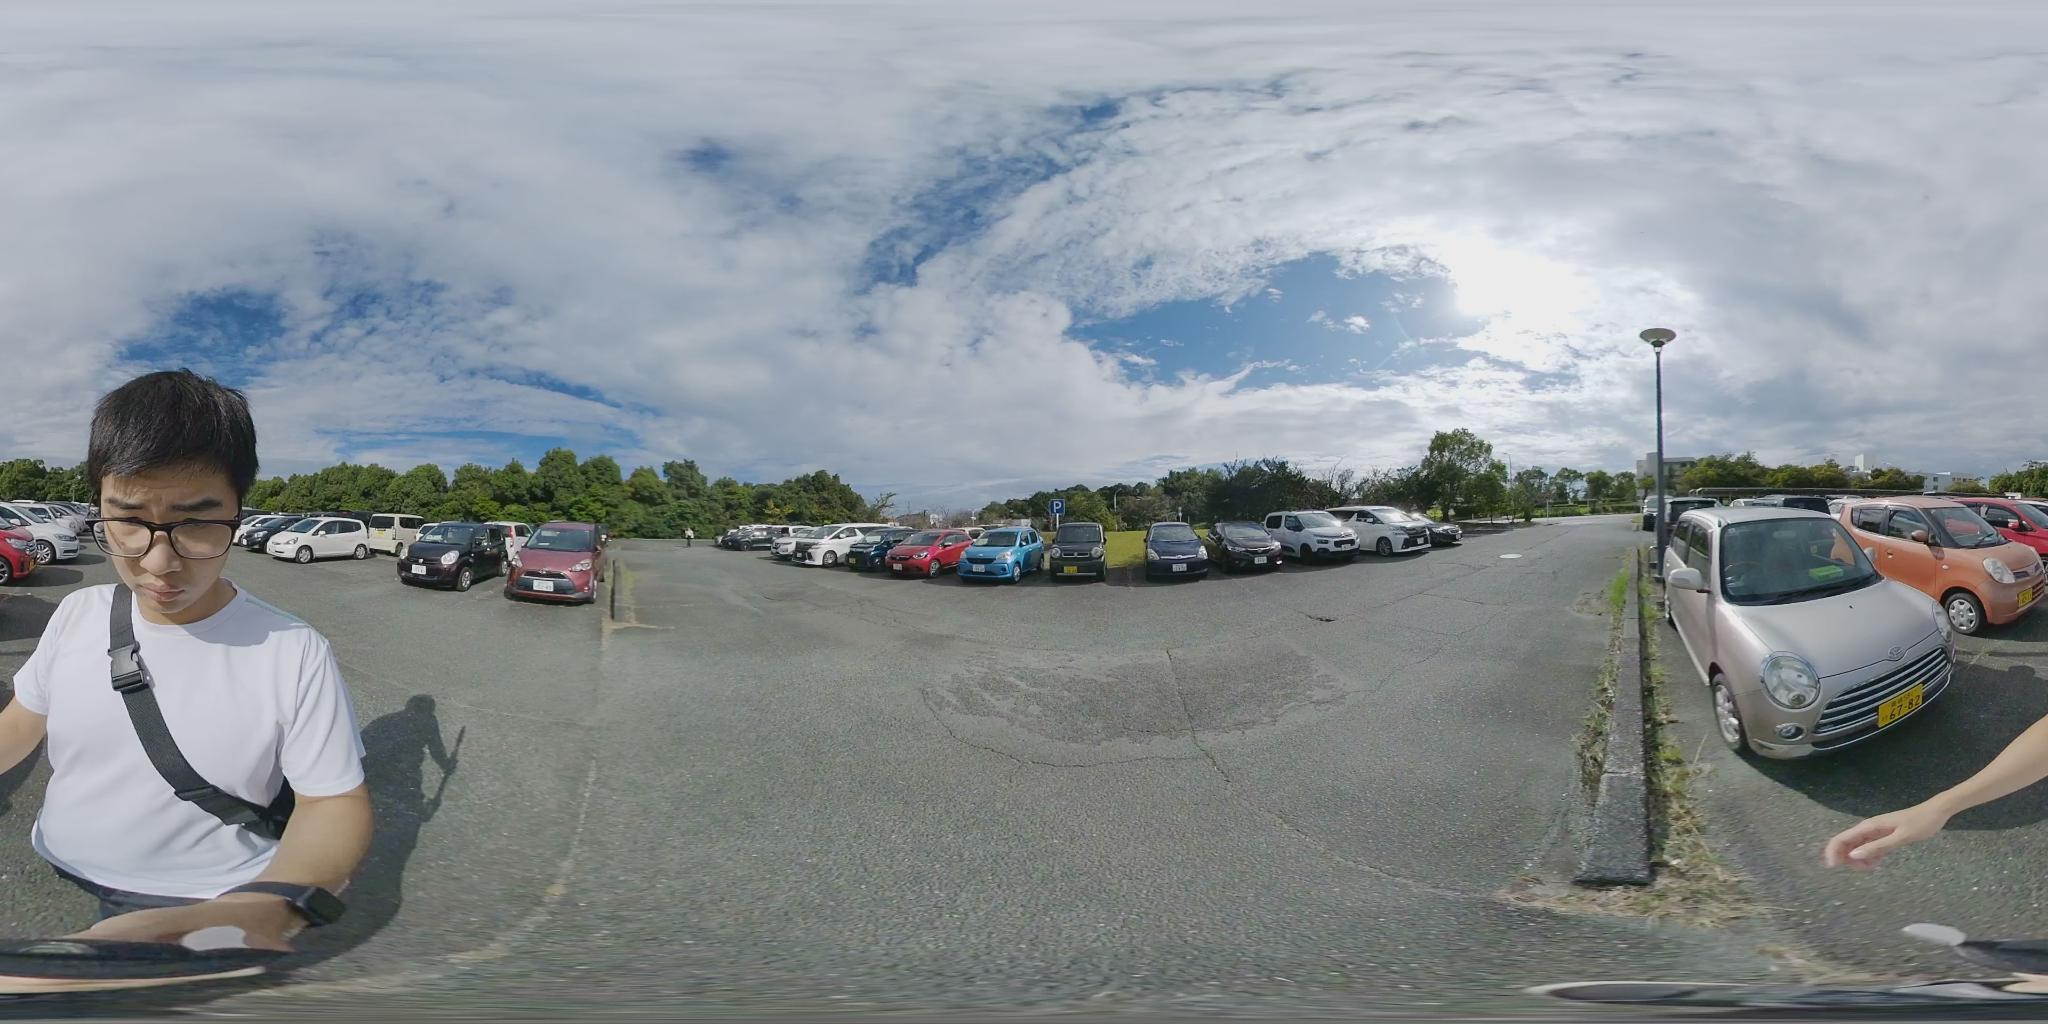car: (1650, 499, 1964, 759), (1839, 500, 2048, 636), (503, 524, 605, 606), (398, 522, 517, 590), (1328, 505, 1458, 554), (793, 524, 917, 571), (1950, 496, 2048, 555), (252, 517, 374, 563), (946, 529, 1049, 581), (1260, 509, 1360, 563), (4, 504, 93, 563), (884, 529, 984, 577), (1139, 519, 1207, 583), (1199, 524, 1281, 572), (1051, 525, 1108, 583), (721, 526, 781, 554)
